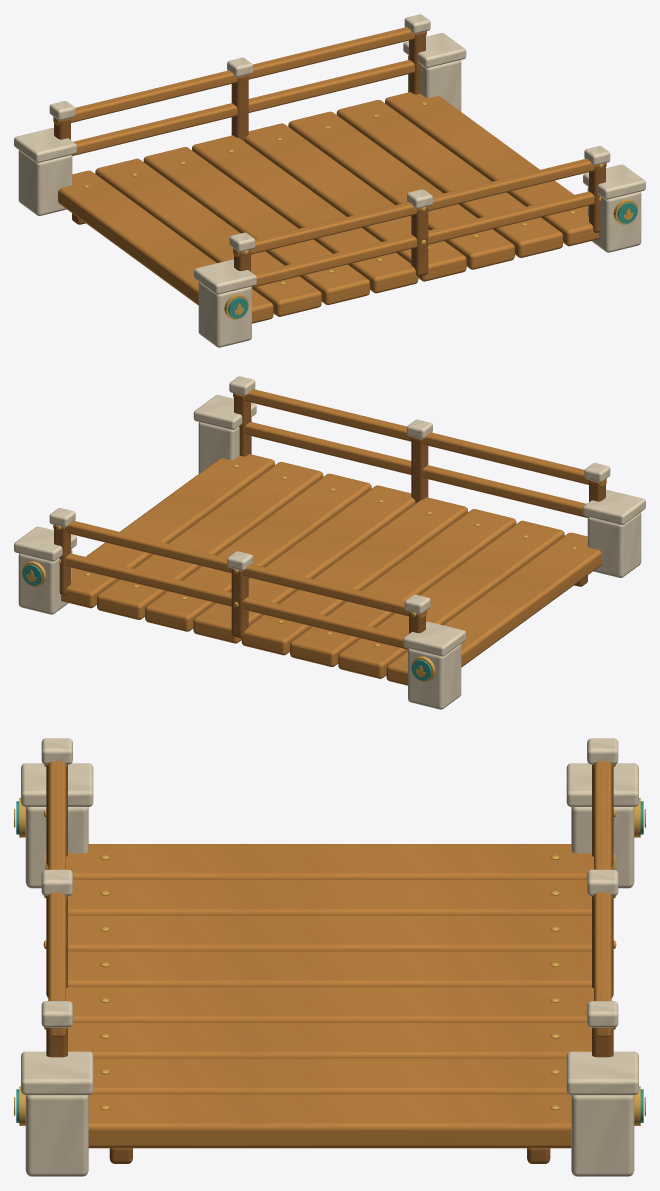
The model's file is garden-windmill-bridge.glb.
The picture shows the model from 3 angles, top to bottom: view 1: azimuth 30°, elevation 25°; view 2: azimuth 150°, elevation 25°; view 3: azimuth 270°, elevation 25°; orthographic projection. The views are drawn at different scales.
Parts seen in each view (by area): view 1: bridge-deck-tree-bench-wood, bridge-abutments-tree-bench-stone, bridge-deck-tree-bench-frame, bridge-deck-tree-bench-stone, bridge-abutments-tree-bench-leaf, bridge-abutments-tree-bench-brass; view 2: bridge-deck-tree-bench-wood, bridge-abutments-tree-bench-stone, bridge-deck-tree-bench-frame, bridge-deck-tree-bench-stone, bridge-abutments-tree-bench-leaf, bridge-abutments-tree-bench-brass; view 3: bridge-deck-tree-bench-wood, bridge-abutments-tree-bench-stone, bridge-deck-tree-bench-stone, bridge-deck-tree-bench-frame, bridge-abutments-tree-bench-brass, bridge-deck-tree-bench-brass.
Part boxes in pixels (left/top/right/bottom): bridge-deck-tree-bench-wood: left=53, top=27, right=606, bottom=323; bridge-abutments-tree-bench-stone: left=14, top=33, right=645, bottom=347; bridge-deck-tree-bench-frame: left=54, top=31, right=605, bottom=276; bridge-deck-tree-bench-stone: left=49, top=14, right=610, bottom=251; bridge-abutments-tree-bench-leaf: left=228, top=202, right=637, bottom=318; bridge-abutments-tree-bench-brass: left=224, top=199, right=638, bottom=319; bridge-deck-tree-bench-wood: left=53, top=389, right=606, bottom=685; bridge-abutments-tree-bench-stone: left=14, top=395, right=645, bottom=709; bridge-deck-tree-bench-frame: left=54, top=393, right=605, bottom=638; bridge-deck-tree-bench-stone: left=49, top=376, right=610, bottom=613; bridge-abutments-tree-bench-leaf: left=22, top=564, right=431, bottom=680; bridge-abutments-tree-bench-brass: left=21, top=561, right=435, bottom=681; bridge-deck-tree-bench-wood: left=48, top=761, right=611, bottom=1148; bridge-abutments-tree-bench-stone: left=21, top=763, right=638, bottom=1176; bridge-deck-tree-bench-stone: left=41, top=738, right=618, bottom=1027; bridge-deck-tree-bench-frame: left=46, top=764, right=613, bottom=1163; bridge-abutments-tree-bench-brass: left=14, top=798, right=645, bottom=1125; bridge-deck-tree-bench-brass: left=43, top=764, right=616, bottom=1110.
Bounding box in the file's own units: 5.53 × 1.24 × 4.63.
Materials: 5 (3 with a texture image).
